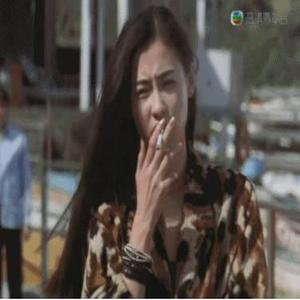cigarette: (156, 128, 163, 154)
